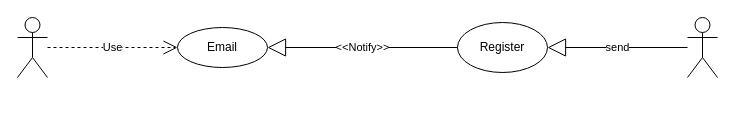
This 750x116 diagram has some shape labels left out. Here are the shapes that lost their labels. From the top down, the centre of each, then its label:
pixel 32 47: User
pixel 702 47: DataCenter
